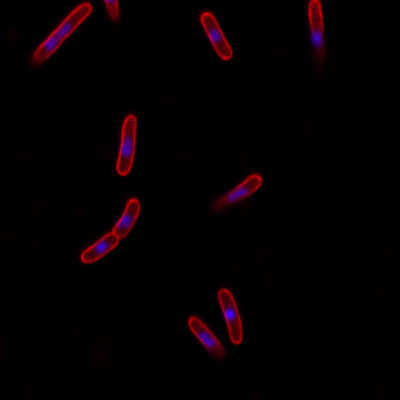Nalidixate: (78, 197, 141, 265), (30, 3, 95, 67), (197, 10, 235, 61), (112, 113, 140, 177), (215, 286, 244, 346)
Oblique: (210, 172, 264, 213), (185, 316, 226, 359), (306, 0, 331, 63)
